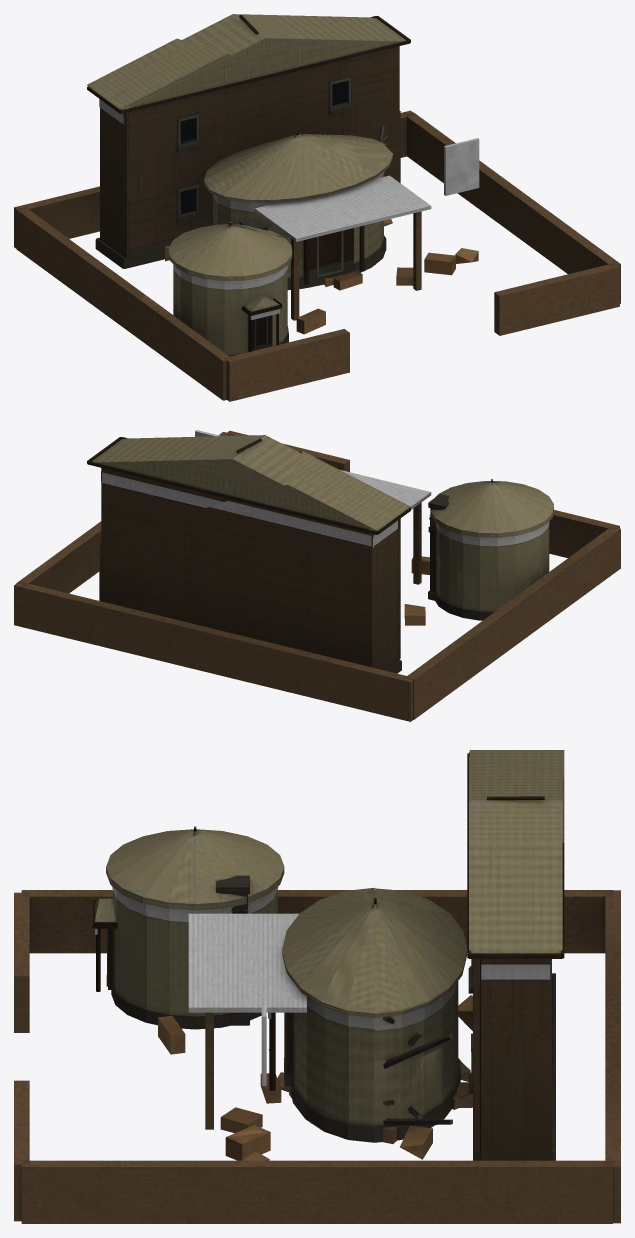
File: civic-bronze-steppe.glb
3 views of the same model, one above another, from view 1: azimuth 30°, elevation 25°; view 2: azimuth 150°, elevation 25°; view 3: azimuth 270°, elevation 25° (orthographic). The views are drawn at different scales.
Visible parts, largest first — view 1: LOD0, LOD0.001, LOD0.002; view 2: LOD0.001, LOD0, LOD0.002; view 3: LOD0, LOD0.001, LOD0.002.
Part boxes in pixels (bbox=[...]): LOD0: bbox=[14, 14, 620, 401]; LOD0.001: bbox=[15, 38, 619, 355]; LOD0.002: bbox=[14, 209, 620, 400]; LOD0.001: bbox=[14, 432, 553, 720]; LOD0: bbox=[14, 430, 620, 721]; LOD0.002: bbox=[122, 435, 619, 721]; LOD0: bbox=[14, 752, 620, 1223]; LOD0.001: bbox=[21, 750, 620, 1223]; LOD0.002: bbox=[14, 893, 609, 1223].
Size of what is drawn, in the model's own units: 1.88 by 0.92 by 1.74.
Materials: 2 (2 with a texture image).
